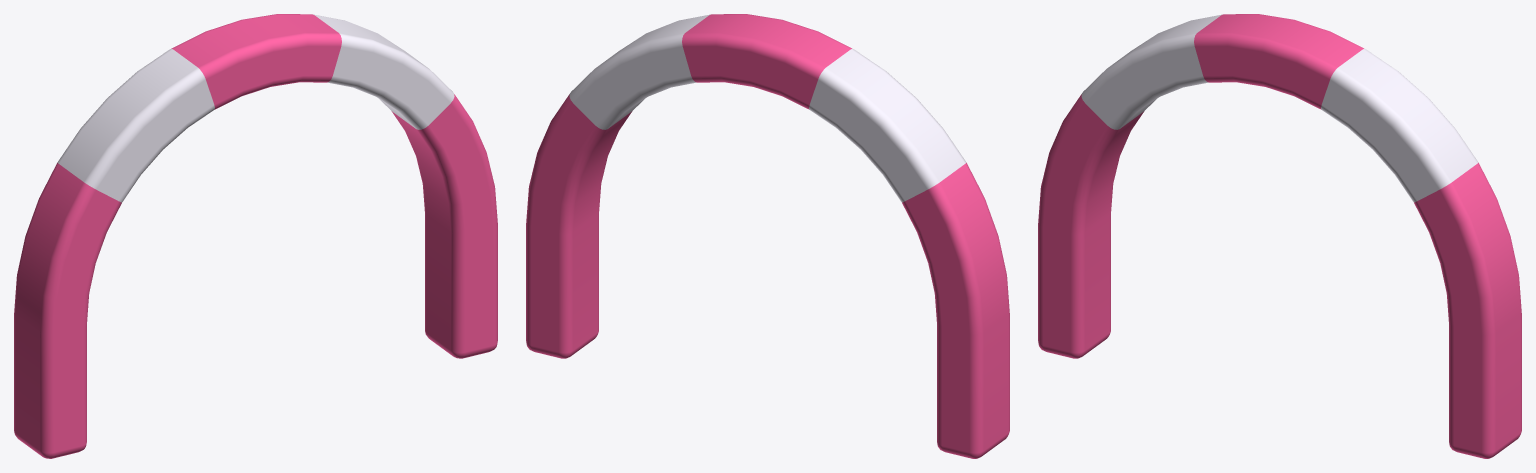
Rendered from arch_6.glb.
3 views of the same model, side by side, from view 1: azimuth 30°, elevation 25°; view 2: azimuth 150°, elevation 25°; view 3: azimuth 330°, elevation 25° (orthographic).
Visible parts, largest first — view 1: arch_6; view 2: arch_6; view 3: arch_6.
Boxes of the visible parts, x1,y1,x2,y2 form: arch_6: (14, 14, 497, 458); arch_6: (526, 14, 1009, 458); arch_6: (1038, 14, 1521, 458).
Size of the model in its own units: 7.5 by 5.75 by 1.
1 material, 1 textured.
